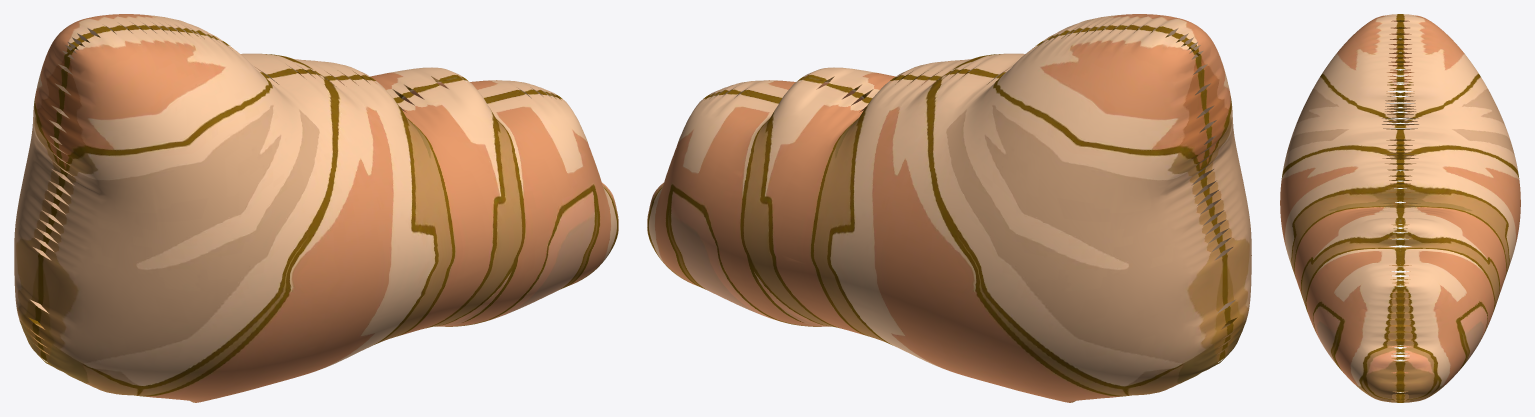
The model's file is foreground_boulders.glb.
3 renders of one model, left to right at view 1: azimuth 30°, elevation 25°; view 2: azimuth 150°, elevation 25°; view 3: azimuth 270°, elevation 25°, orthographic. The views are drawn at different scales.
Visible parts, largest first — view 1: foreground_boulders; view 2: foreground_boulders; view 3: foreground_boulders.
Boxes of the visible parts, x1,y1,x2,y2 form: foreground_boulders: (14,14,618,402); foreground_boulders: (647,14,1251,402); foreground_boulders: (1280,14,1520,402).
Bounding box in the file's own units: 0.989 × 0.617 × 0.5423.
1 material, 1 textured.
